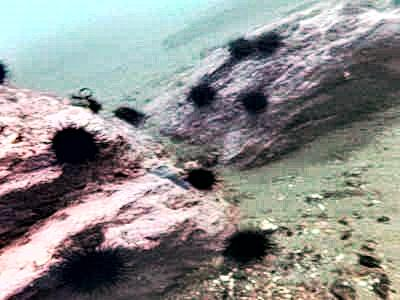urchin: (51, 242, 134, 294), (45, 119, 101, 166), (219, 228, 275, 268), (185, 166, 218, 192), (188, 82, 216, 110), (116, 105, 146, 125), (253, 30, 281, 50), (242, 89, 266, 112), (229, 34, 252, 57)
